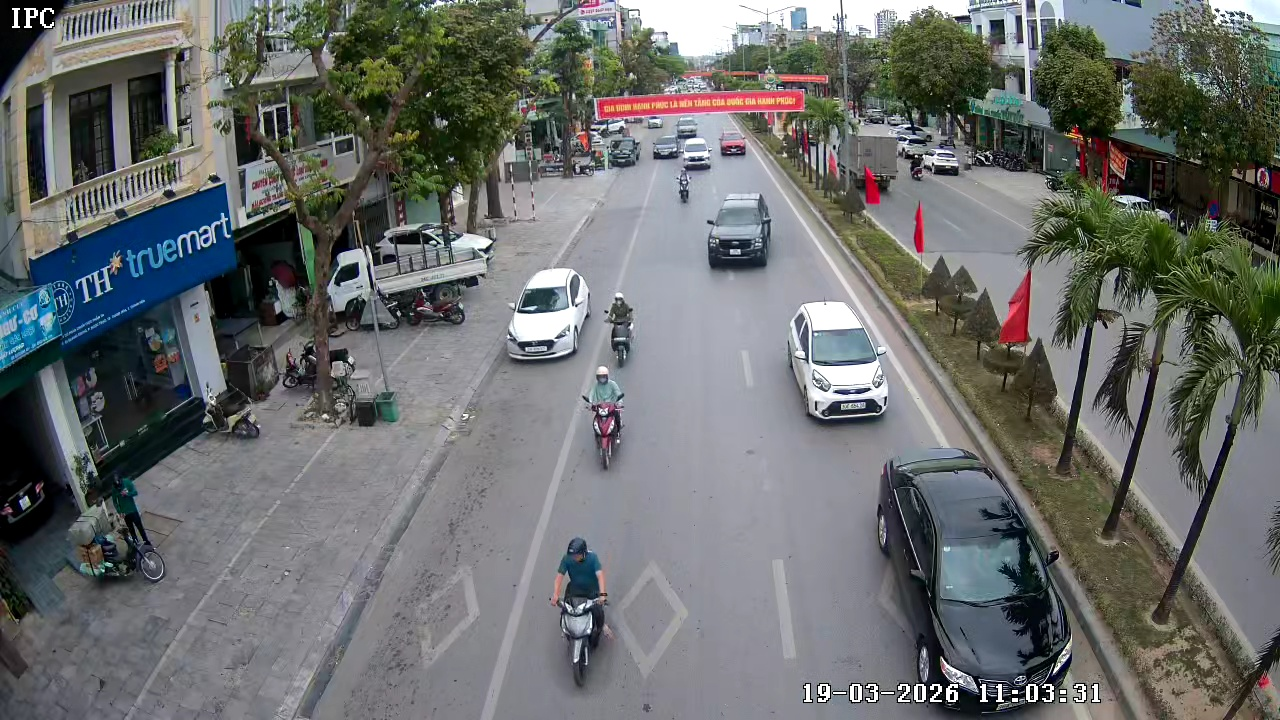car: (875, 446, 1080, 711), (786, 300, 889, 421), (505, 267, 593, 362), (704, 191, 773, 269), (684, 139, 713, 169), (718, 130, 748, 158), (652, 135, 680, 161)
motorbike: (548, 534, 616, 688), (580, 367, 627, 471), (406, 263, 468, 326), (602, 291, 637, 369), (676, 164, 693, 204)
truck: (609, 131, 643, 171)
